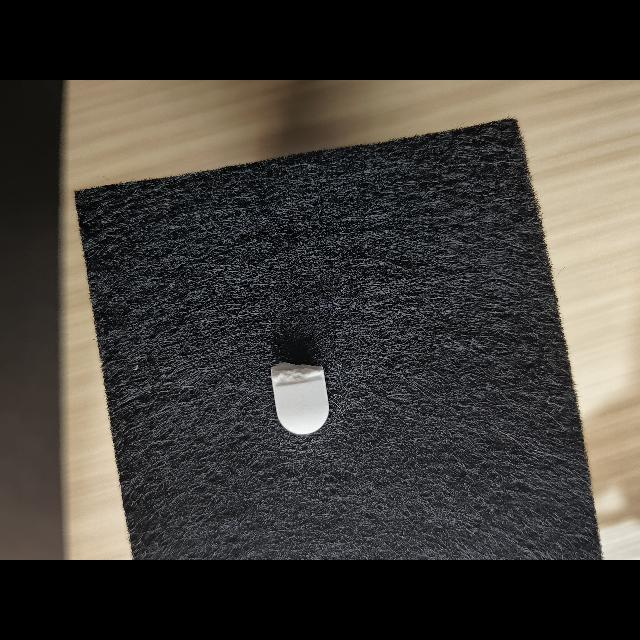Chipped Pill: (271, 362, 329, 434)
